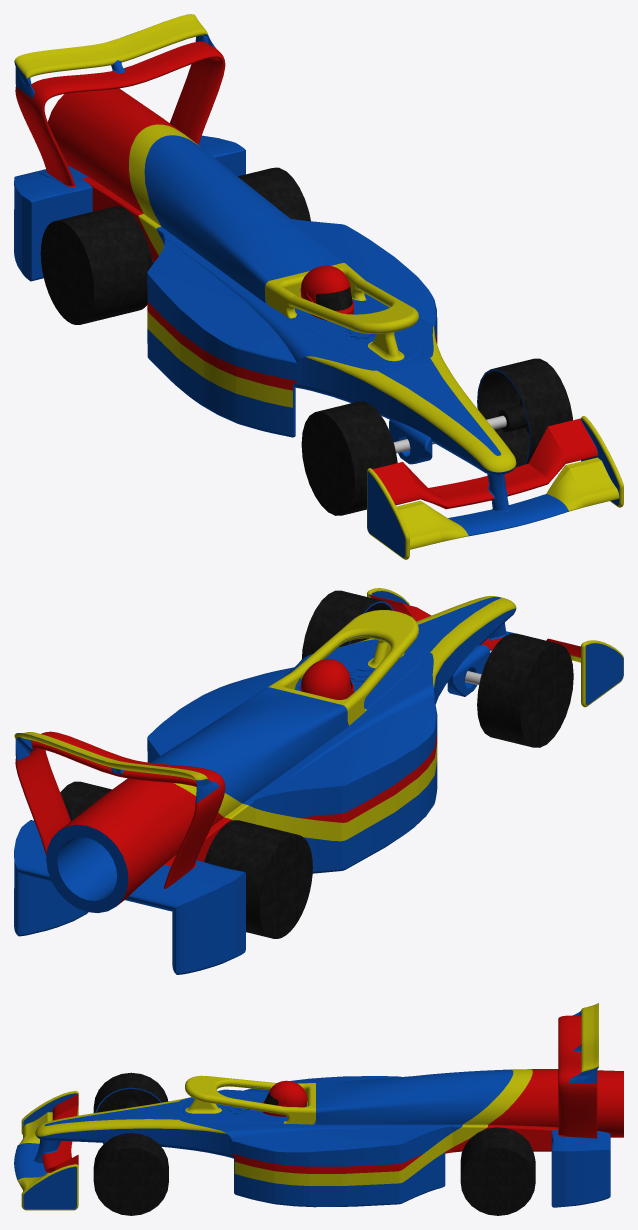
Rendered from Kafur3.glb.
3 renders of one model, top to bottom at view 1: azimuth 30°, elevation 25°; view 2: azimuth 150°, elevation 25°; view 3: azimuth 270°, elevation 25°, orthographic. The views are drawn at different scales.
Parts seen in each view (by area): view 1: coche+pintado.001; view 2: coche+pintado.001; view 3: coche+pintado.001.
Boxes of the visible parts, bbox=[...] form: coche+pintado.001: bbox=[14, 14, 623, 559]; coche+pintado.001: bbox=[14, 588, 623, 974]; coche+pintado.001: bbox=[14, 1003, 623, 1215].
Size of the model in its own units: 11.5 by 10.44 by 39.51.
7 materials, 1 textured.
